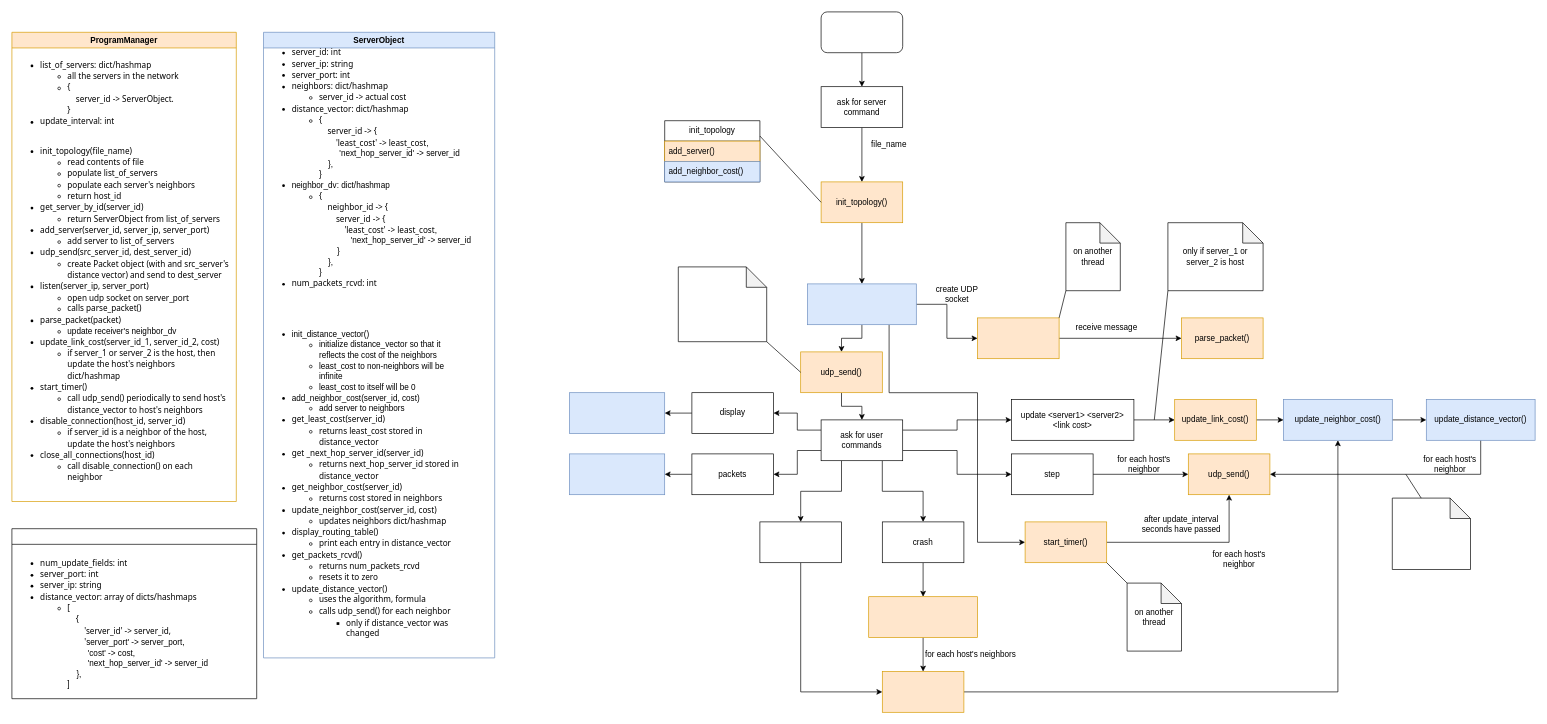
Some shapes in this 1547 by 724 pixel diagram are drawn without their labels. The box of each missing label's shape, as (x1, y1, x2, y2) in pixels:
close_all_connections(): (868, 596, 978, 638)
disable: (759, 521, 842, 563)
disable_connection(): (882, 671, 964, 712)
display_routing_table(): (569, 392, 665, 434)
get_packets_rcvd(): (569, 453, 665, 495)
init_distance_vector(): (807, 283, 916, 325)
listen(): (977, 317, 1059, 359)
only if distance_vector changed: (1392, 497, 1470, 570)
Packet: (11, 528, 257, 699)
send distance_vector to all neighbors: (678, 266, 767, 342)
start: (820, 11, 903, 53)
